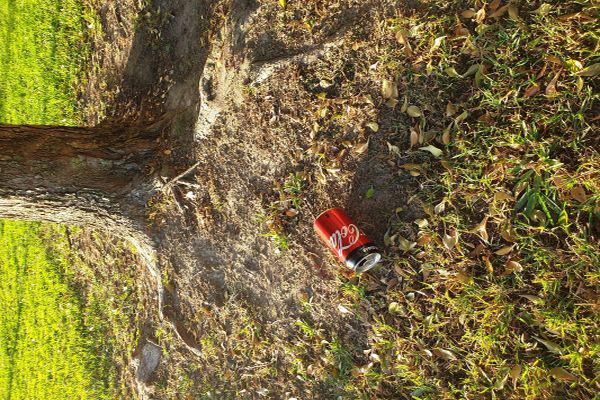Plastic Bottle: (311, 207, 382, 276)
